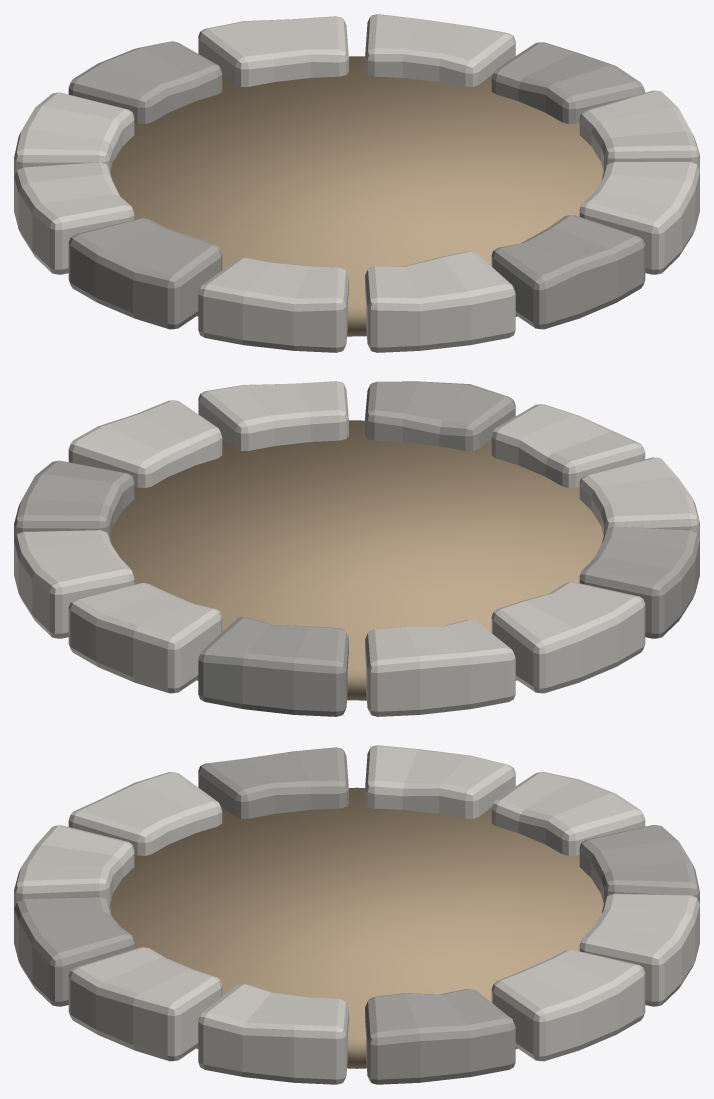
The model's file is pad.glb.
3 views of the same model, one above another, from view 1: azimuth 30°, elevation 25°; view 2: azimuth 150°, elevation 25°; view 3: azimuth 270°, elevation 25° (orthographic).
Bounding box in the file's own units: 2.43 × 0.2288 × 2.43.
